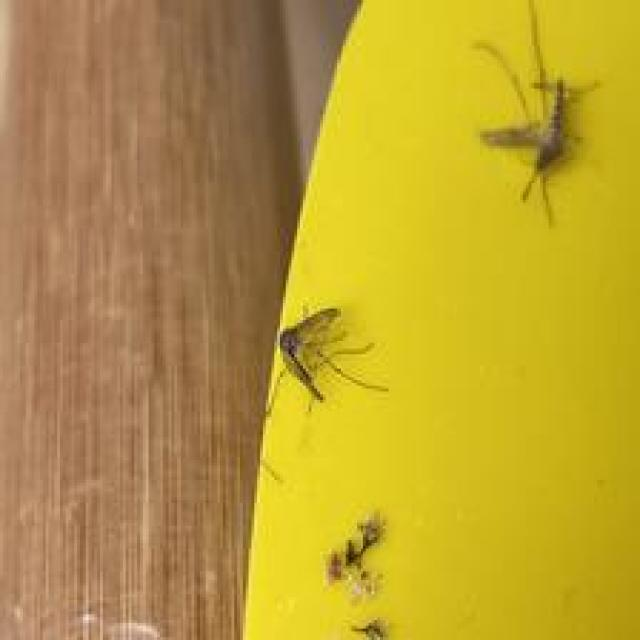Culex: (473, 0, 601, 226)
